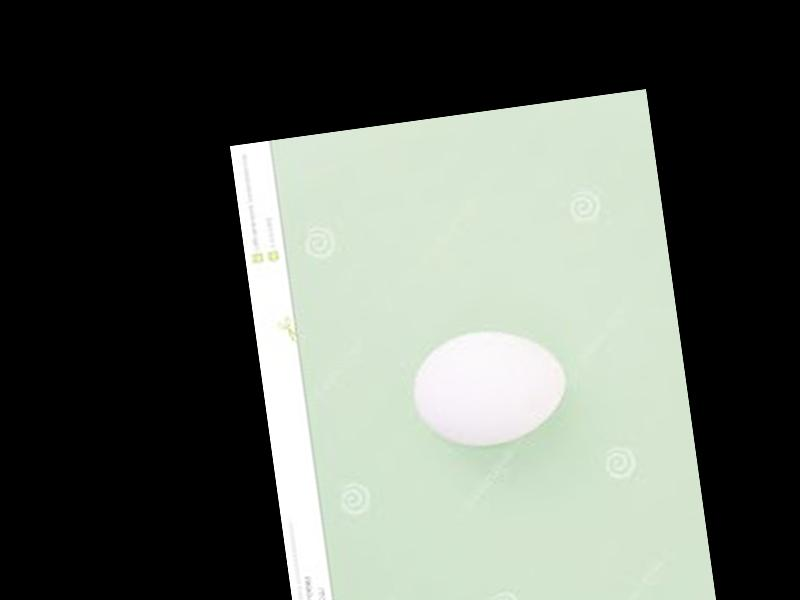Eggs: (407, 323, 571, 455)
